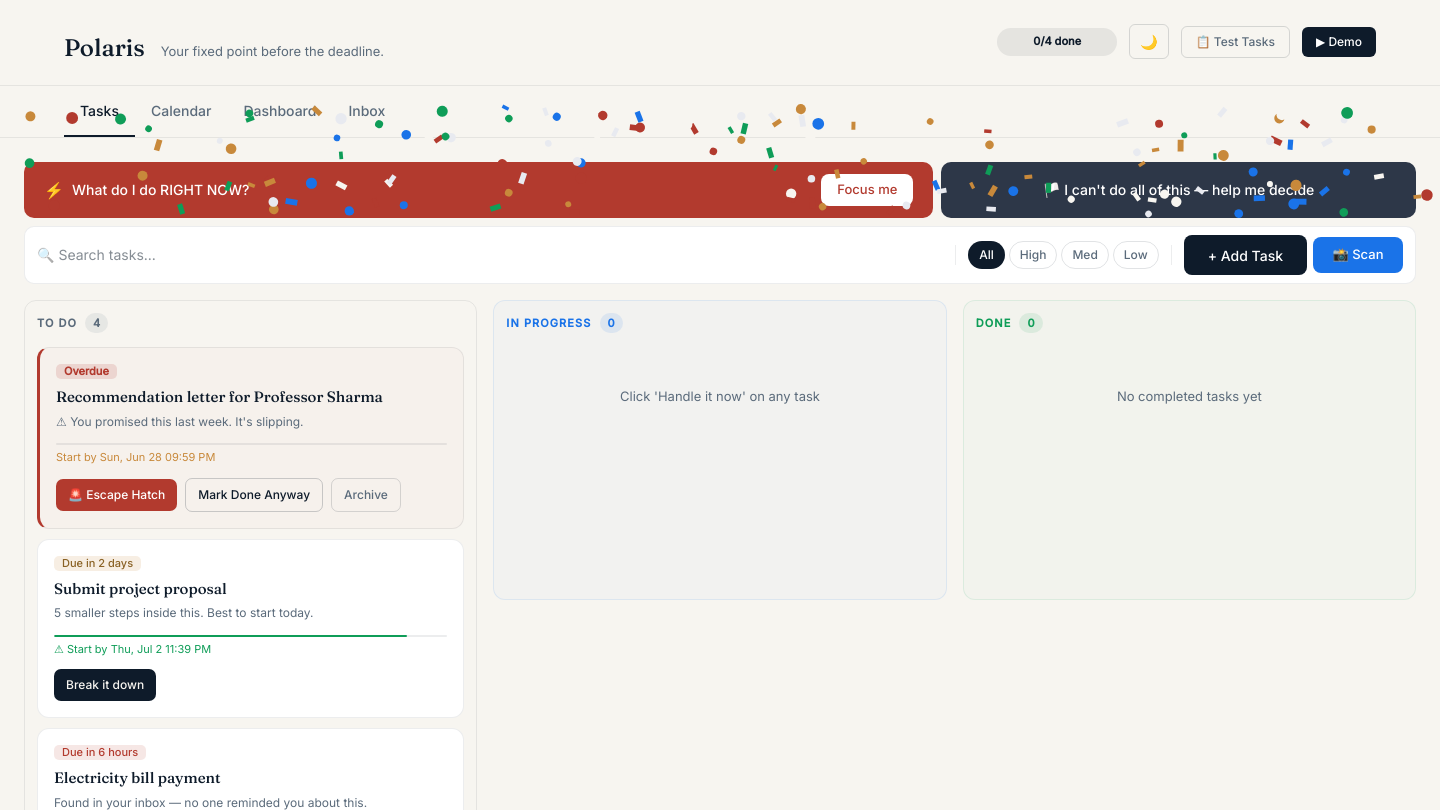
Test case: Renegotiation Agent Feature › Failing renegotiation API falls back gracefully to hardcoded strategy
The image size is (1440, 810).
Click the button "🏳️ I can't do all of this — help me decide" at (1179, 190), box [941, 162, 1416, 218]
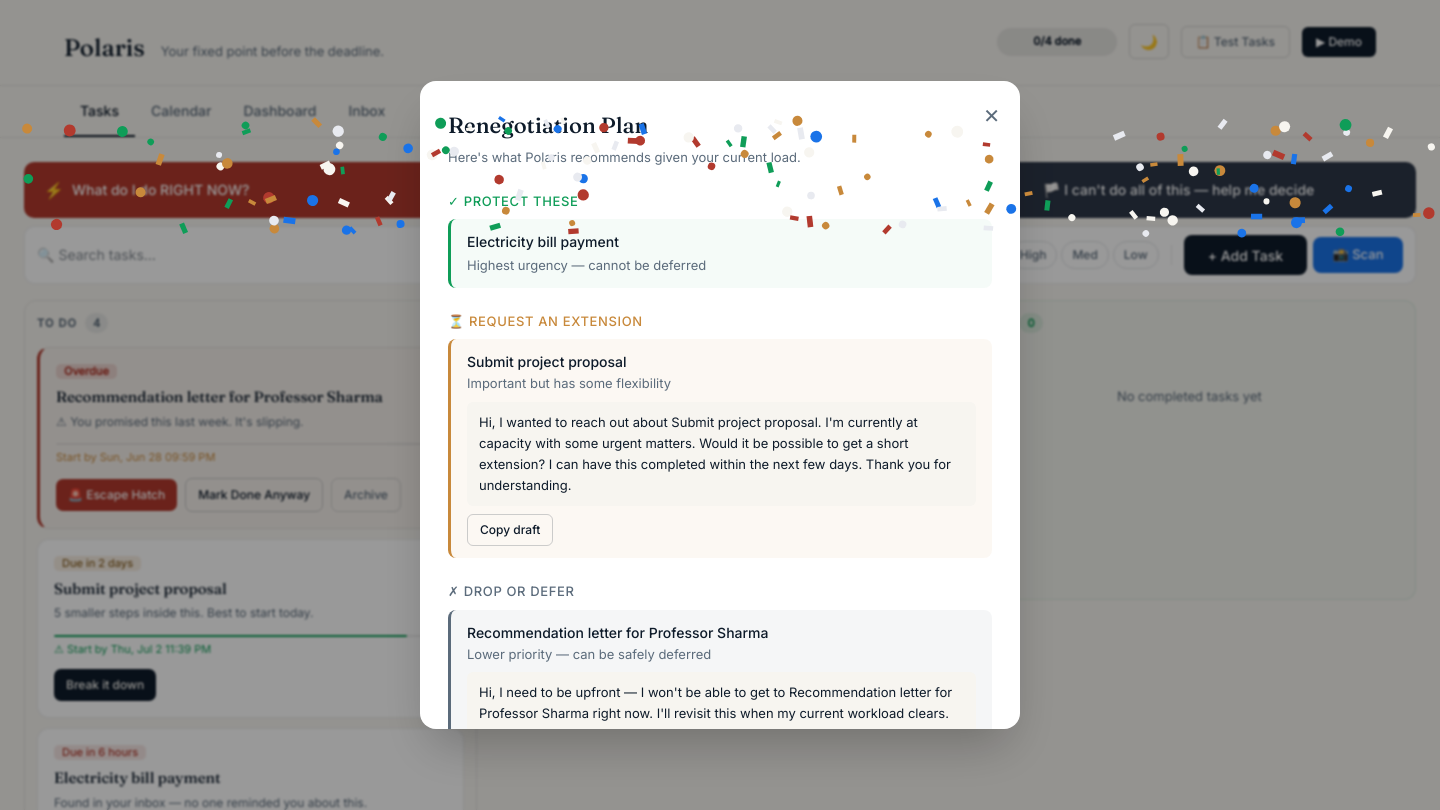
expect the heading "Electricity bill payment" is shown: met, box [54, 768, 221, 789]
expect the heading "Renegotiation Plan" is shown: met, box [448, 111, 648, 139]
expect the text "Highest urgency — cannot be deferred" is shown: met, box [467, 257, 706, 273]
